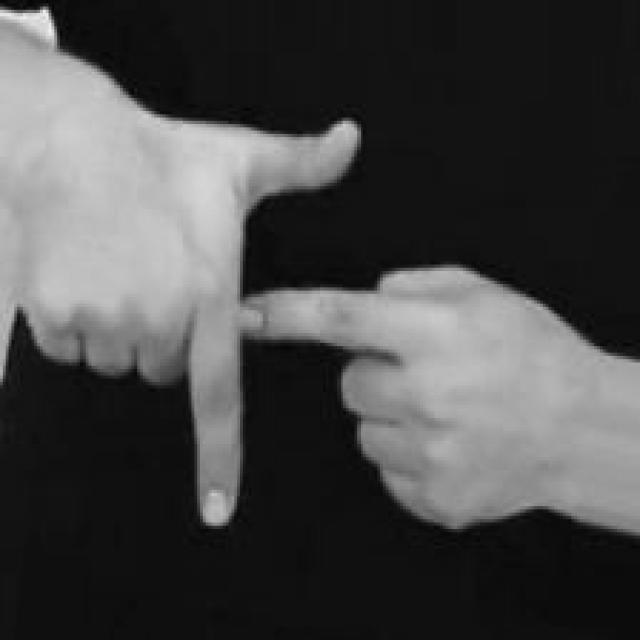F: (22, 105, 548, 531)
